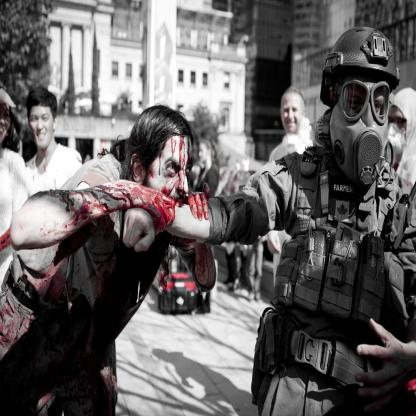Helmet: (320, 27, 399, 189)
